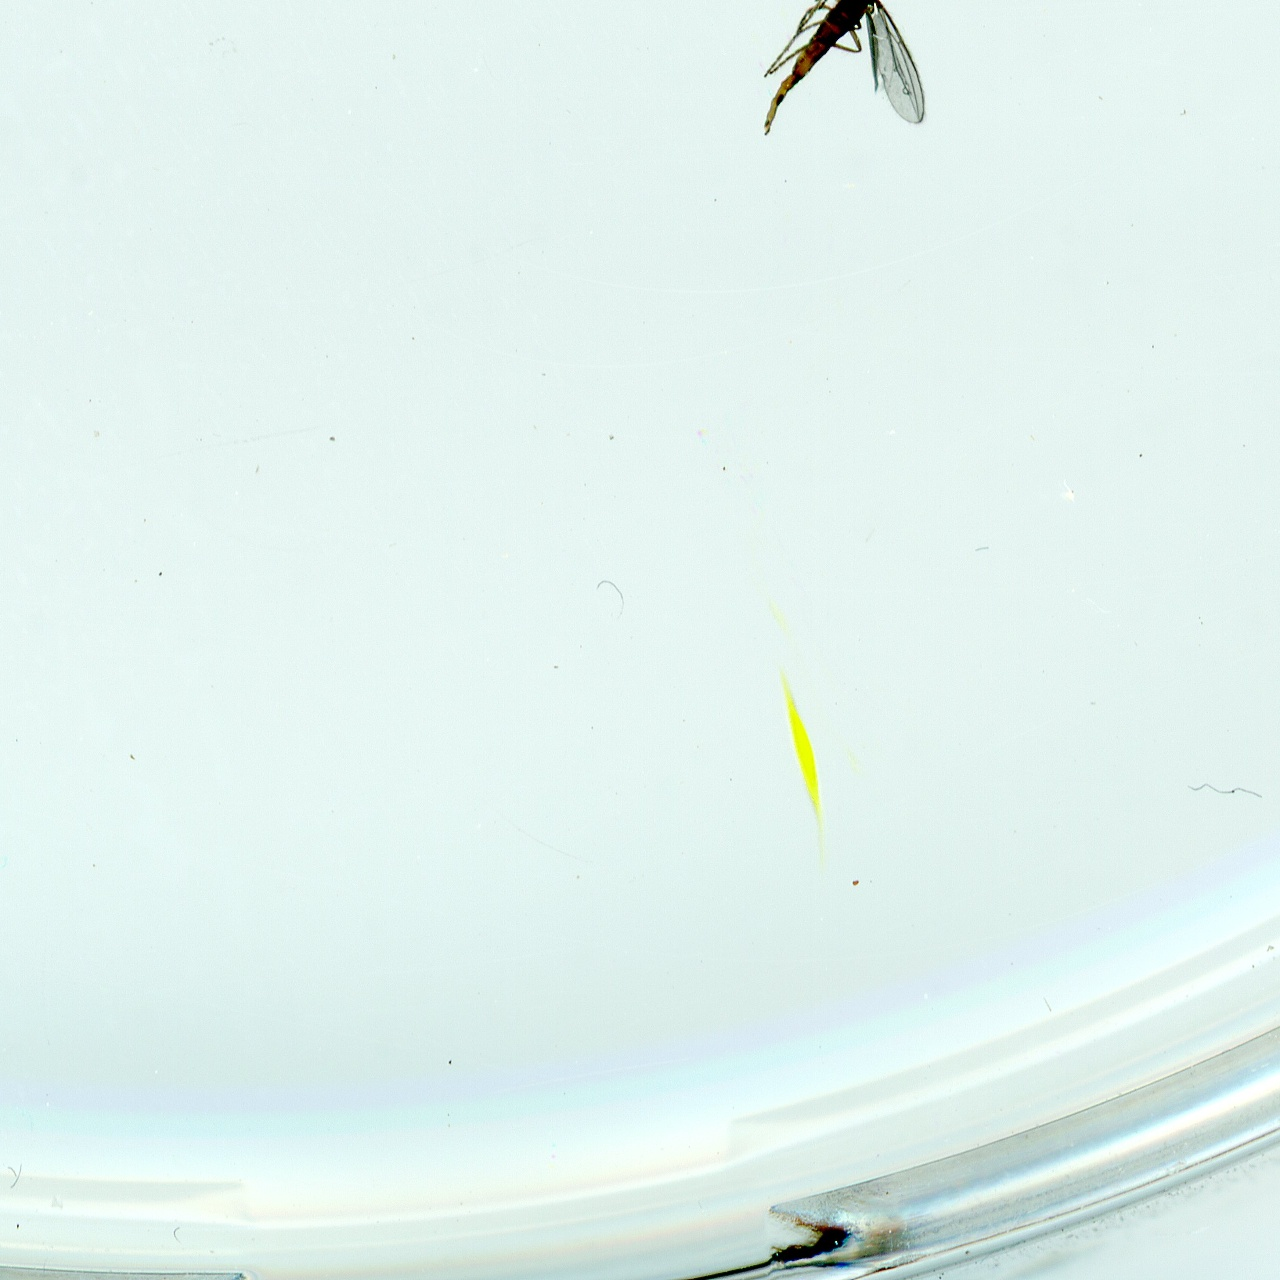arthropod: (738, 0, 939, 161)
